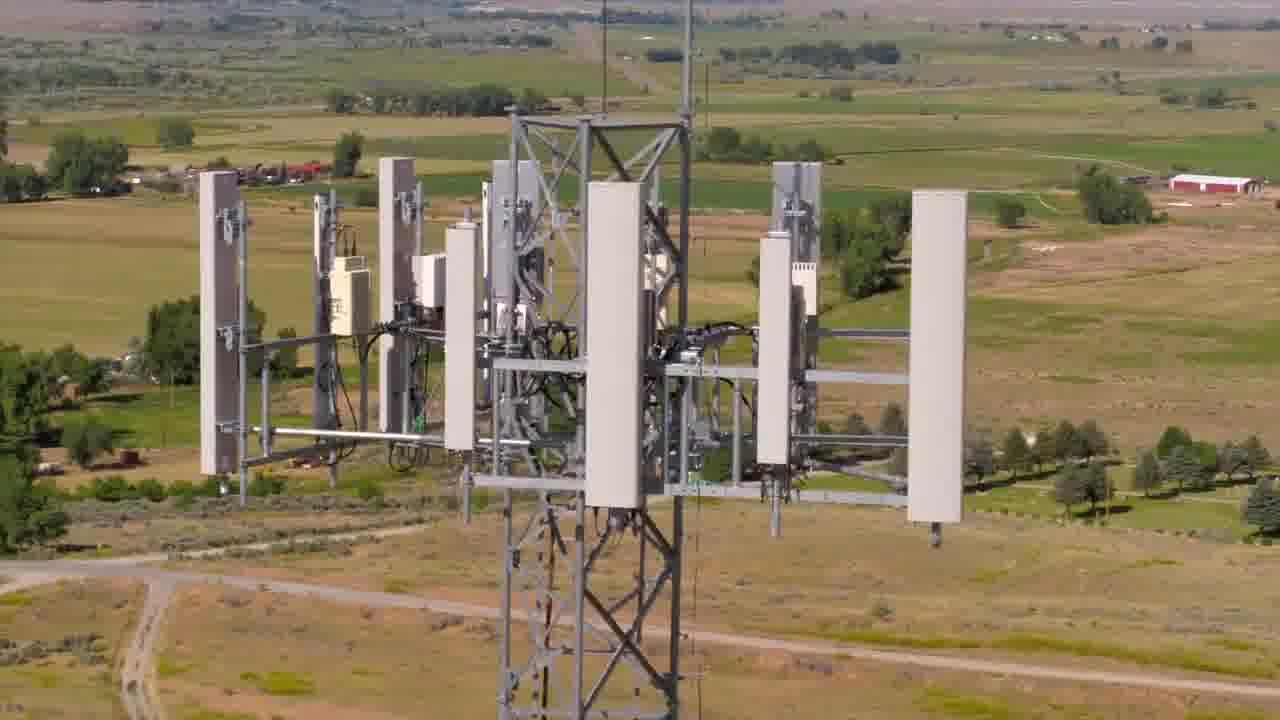antenna: (905, 188, 975, 540), (586, 176, 656, 527), (189, 168, 250, 486), (375, 152, 434, 438), (750, 224, 807, 492), (438, 219, 494, 484), (765, 161, 831, 250)
